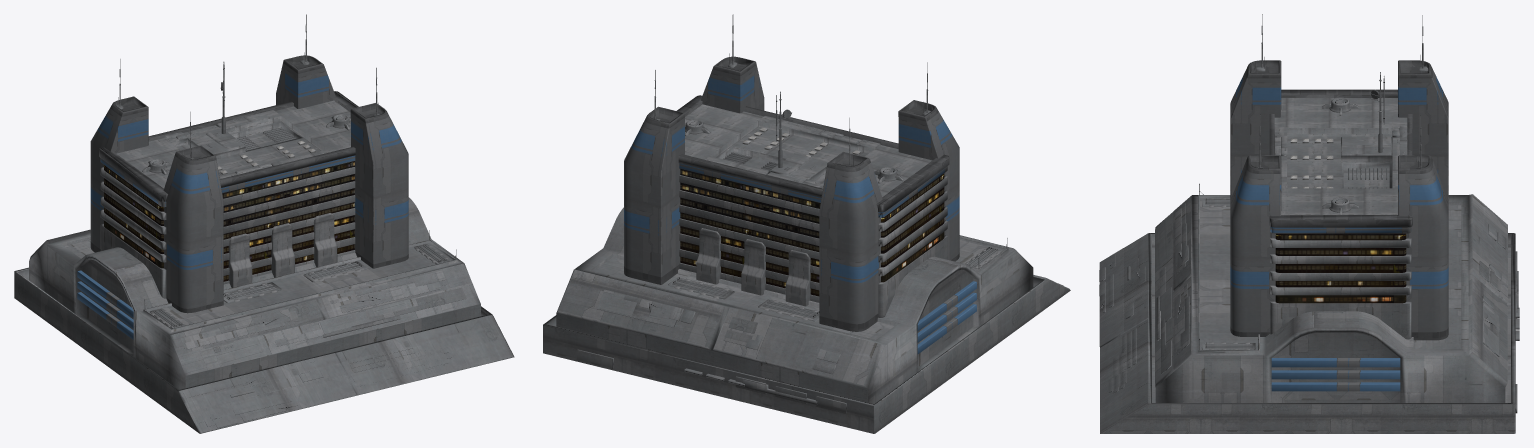
Rendered from CityBlock003.fbx.
3 renders of one model, left to right at view 1: azimuth 30°, elevation 25°; view 2: azimuth 150°, elevation 25°; view 3: azimuth 270°, elevation 25°, orthographic. The views are drawn at different scales.
Visible parts, largest first — view 1: SMCGBlock43_7401.Shape; view 2: SMCGBlock43_7401.Shape; view 3: SMCGBlock43_7401.Shape.
Part boxes in pixels (<box>): SMCGBlock43_7401.Shape: <box>14,14,514,433</box>; SMCGBlock43_7401.Shape: <box>543,14,1070,433</box>; SMCGBlock43_7401.Shape: <box>1099,14,1519,433</box>.
Size of the model in its own units: 721 by 555 by 747.
